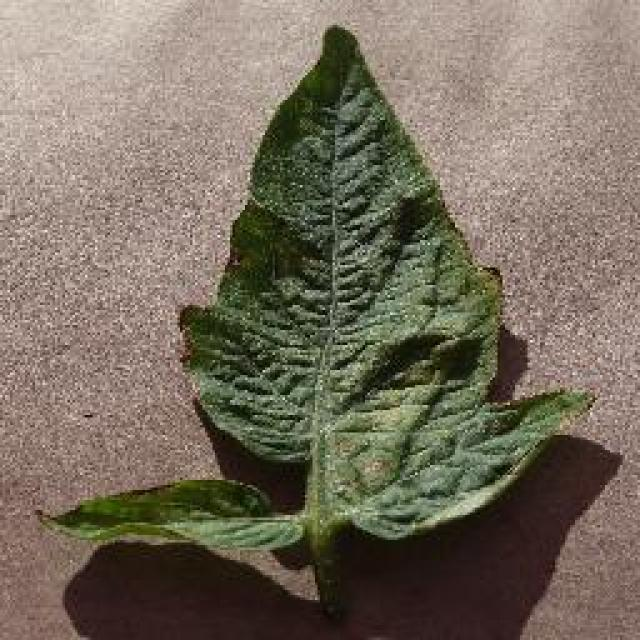Tomato mosaic virus leaf: (176, 24, 594, 538), (33, 479, 305, 561)
